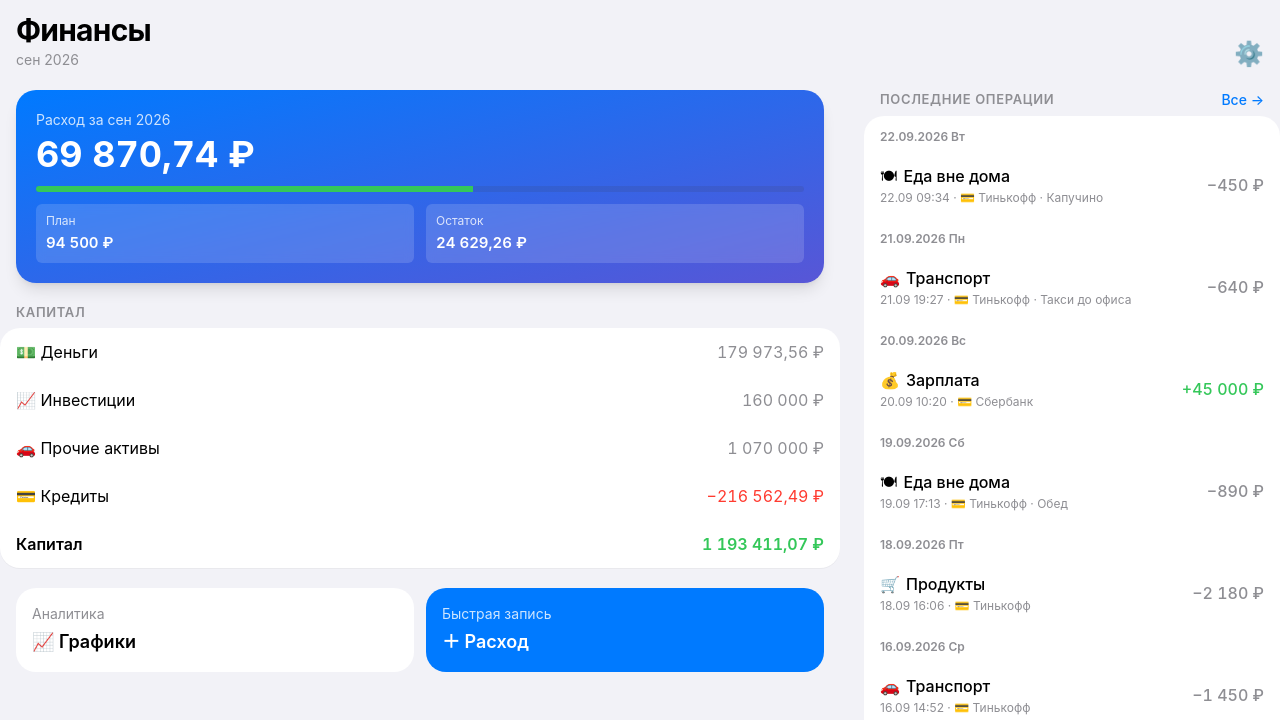
Scenario: История операций: поиск, категория, «Показать ещё» › поиск идёт на сервер с паузой: быстрый набор — один запрос, список сужается, «✕» возвращает всё
Check: the text "Расход за сен 2026" is shown, box [36, 111, 170, 128]
Step 1. Click the button "Все →" → x=1243, y=100, box [1221, 90, 1264, 110]
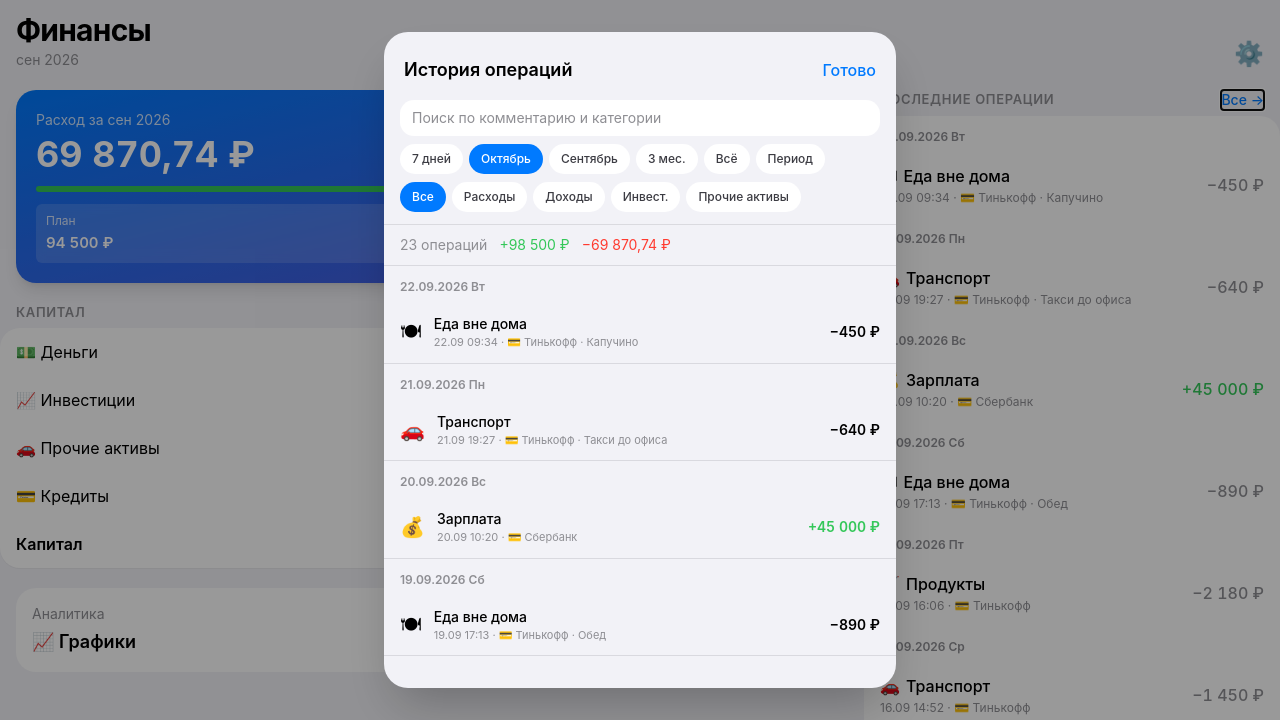
Check: the field named "Поиск операций" is shown
Step 2. Type "такси" into the field named "Поиск операций" → x=640, y=118, box [400, 100, 880, 136]
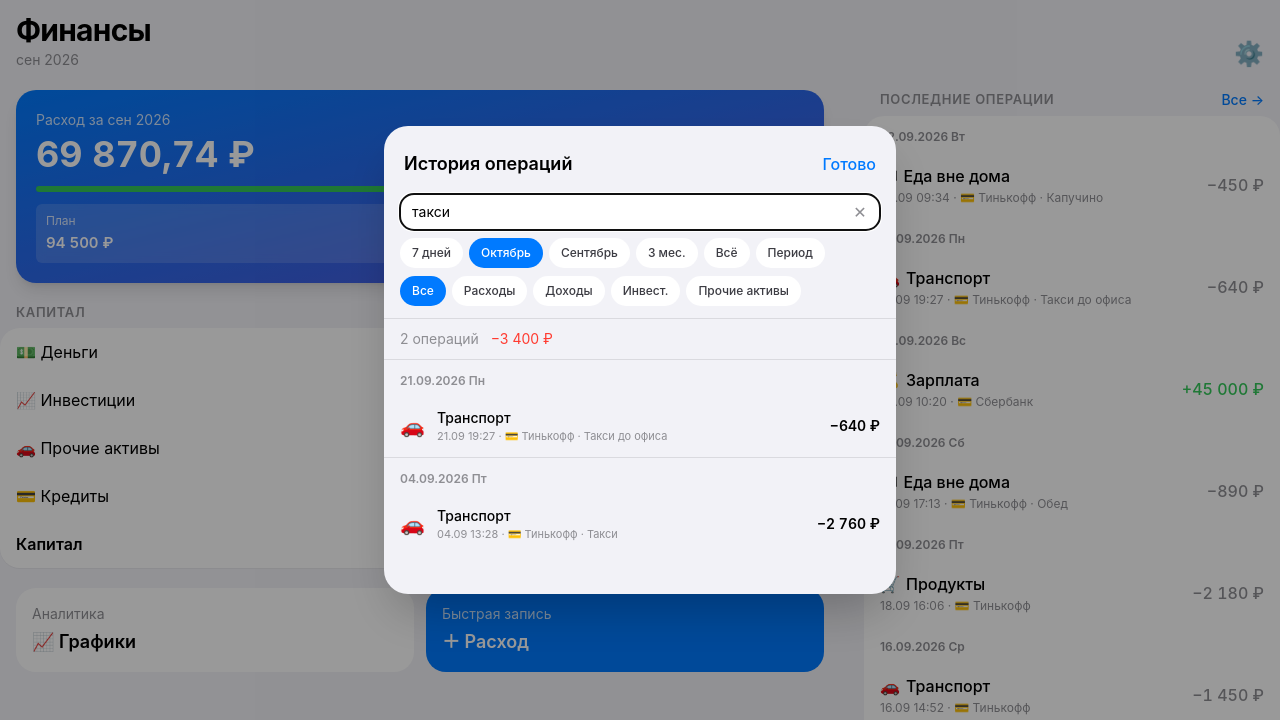
Step 3. Click the button named "Очистить поиск" → x=860, y=212, box [844, 196, 876, 228]
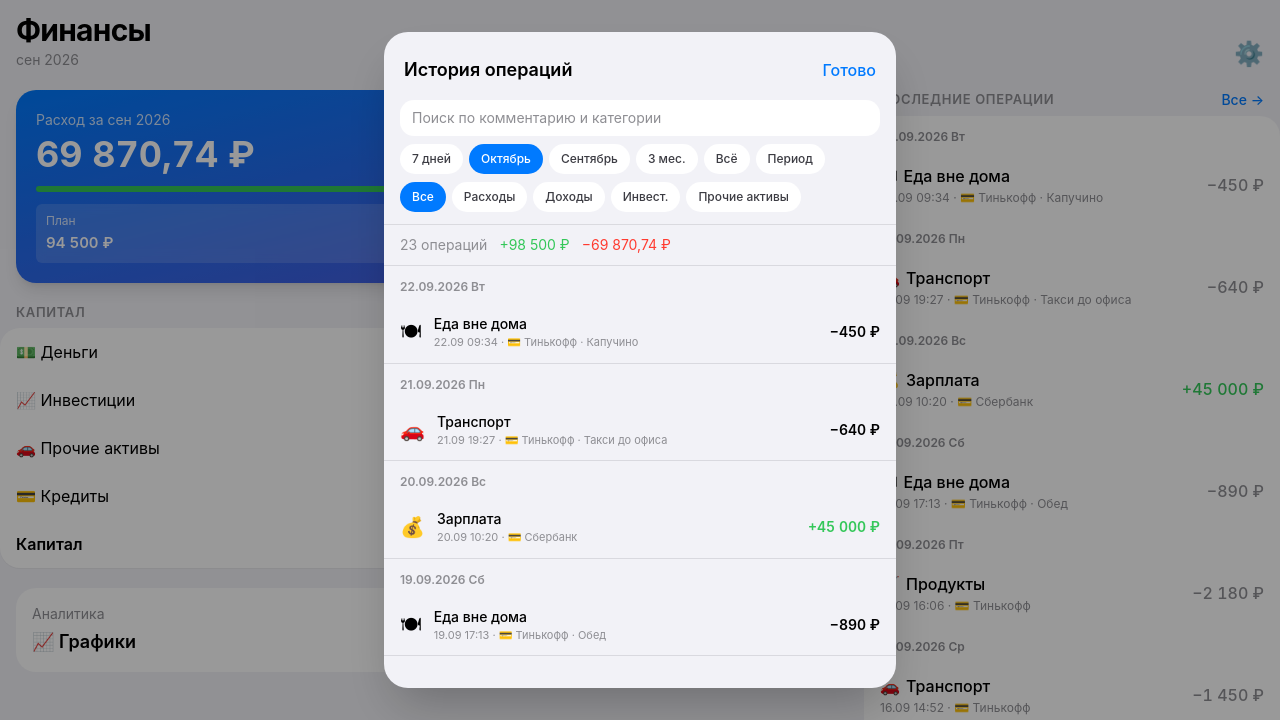
Check: the field named "Поиск операций" is empty, box [400, 100, 880, 136]
